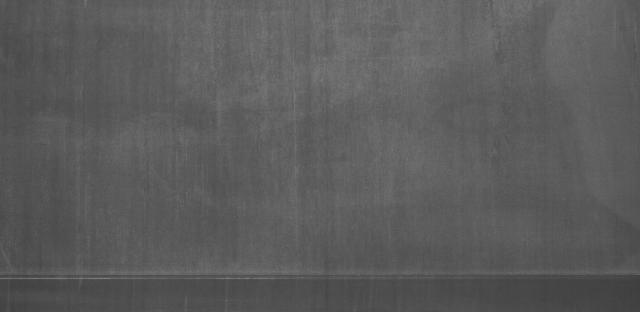welding_line: (3, 261, 640, 292)
